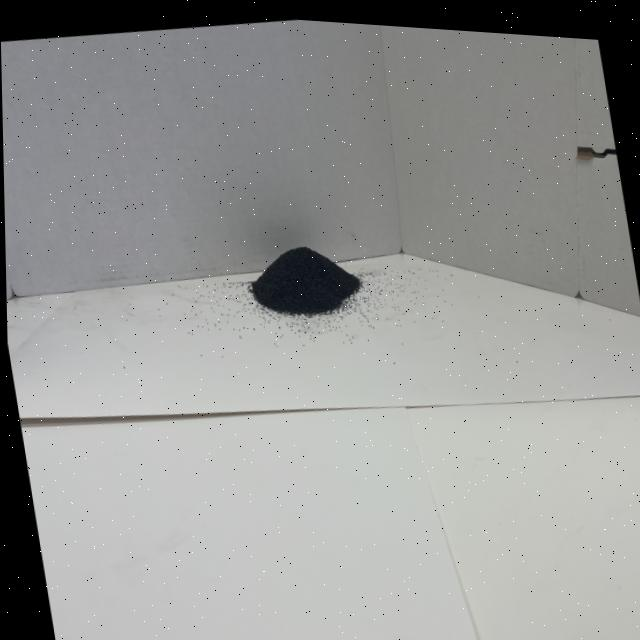Poppy Seeds: (247, 229, 364, 342)
